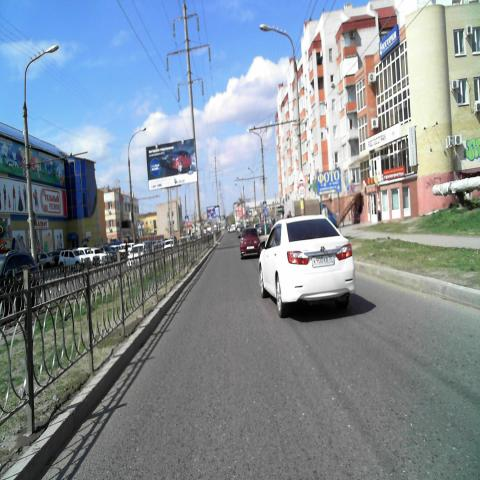1_17: (296, 169, 306, 184)
3_24: (298, 186, 306, 200)
